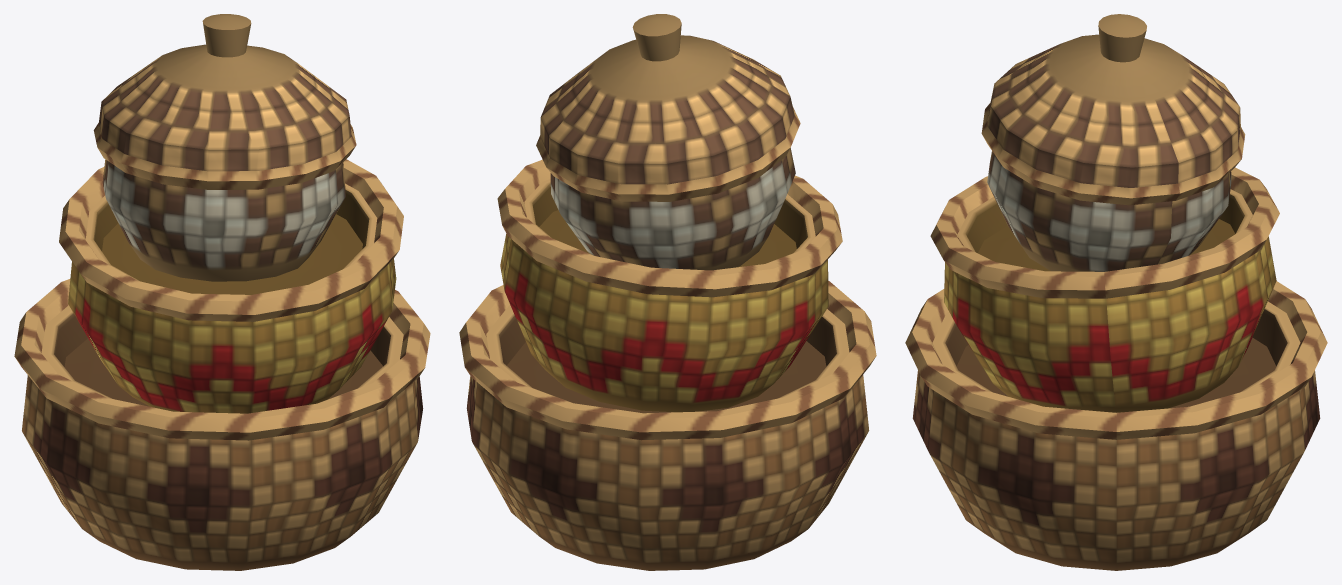
The model's file is basket_stack.glb.
3 renders of one model, left to right at view 1: azimuth 30°, elevation 25°; view 2: azimuth 150°, elevation 25°; view 3: azimuth 270°, elevation 25°, orthographic.
Parts seen in each view (by area): view 1: basket_stack; view 2: basket_stack; view 3: basket_stack.
Part boxes in pixels (bbox=[...]): basket_stack: bbox=[14, 14, 430, 570]; basket_stack: bbox=[459, 14, 876, 570]; basket_stack: bbox=[905, 14, 1327, 570].
Bounding box in the file's own units: 0.7868 × 1.02 × 0.7868.
1 material, 1 textured.
